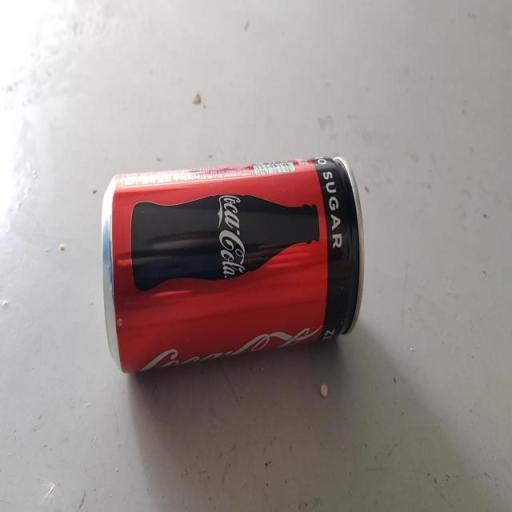metal: (88, 153, 384, 393)
